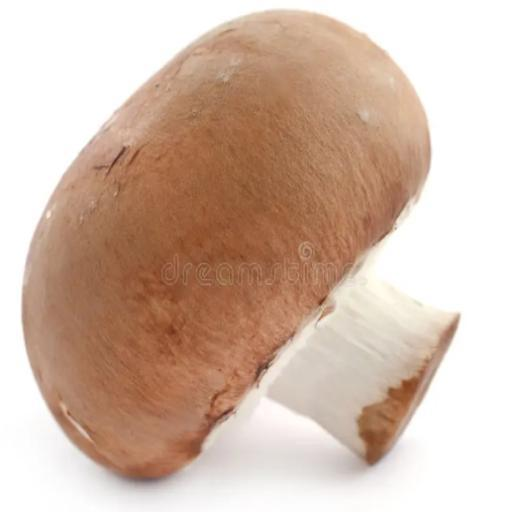mushroom: (18, 8, 476, 484)
